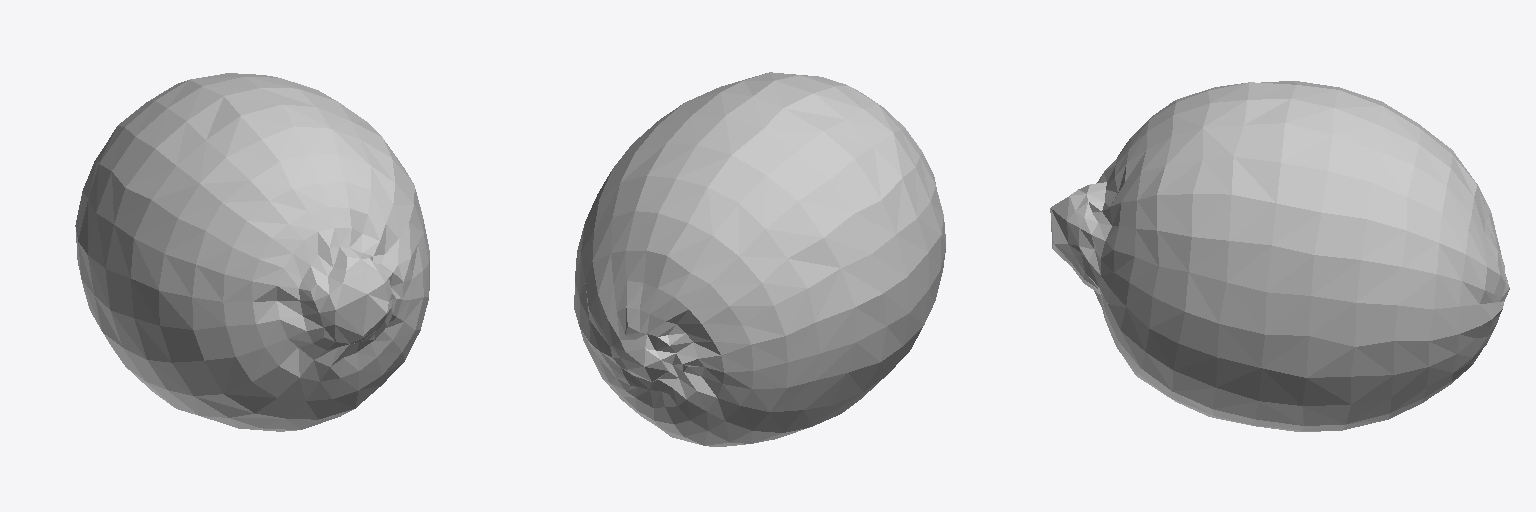
File: lem.obj
3 views of the same model, side by side, from view 1: azimuth 30°, elevation 25°; view 2: azimuth 150°, elevation 25°; view 3: azimuth 270°, elevation 25° (orthographic).
Parts seen in each view (by area): view 1: lemon; view 2: lemon; view 3: lemon.
Boxes of the visible parts, box(x1,y1,x2,y2) form: lemon: box(75, 73, 429, 431); lemon: box(574, 72, 945, 446); lemon: box(1050, 81, 1509, 431).
Bounding box in the file's own units: 0.061 × 0.065 × 0.0837.